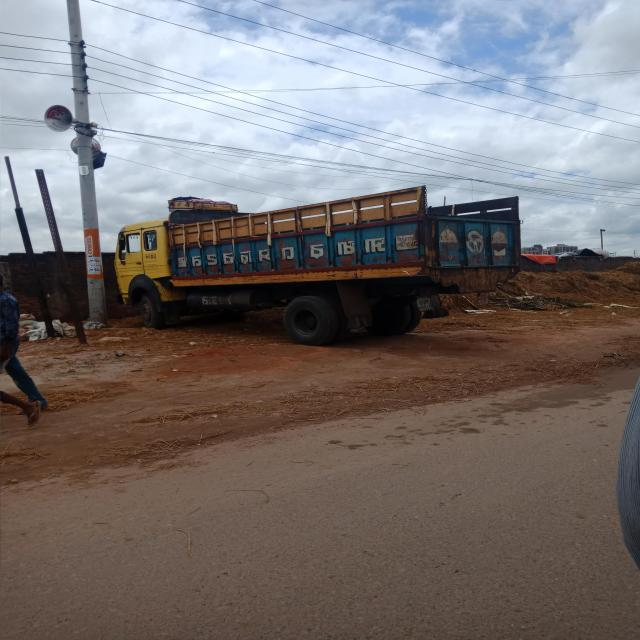truck: (105, 168, 541, 359)
